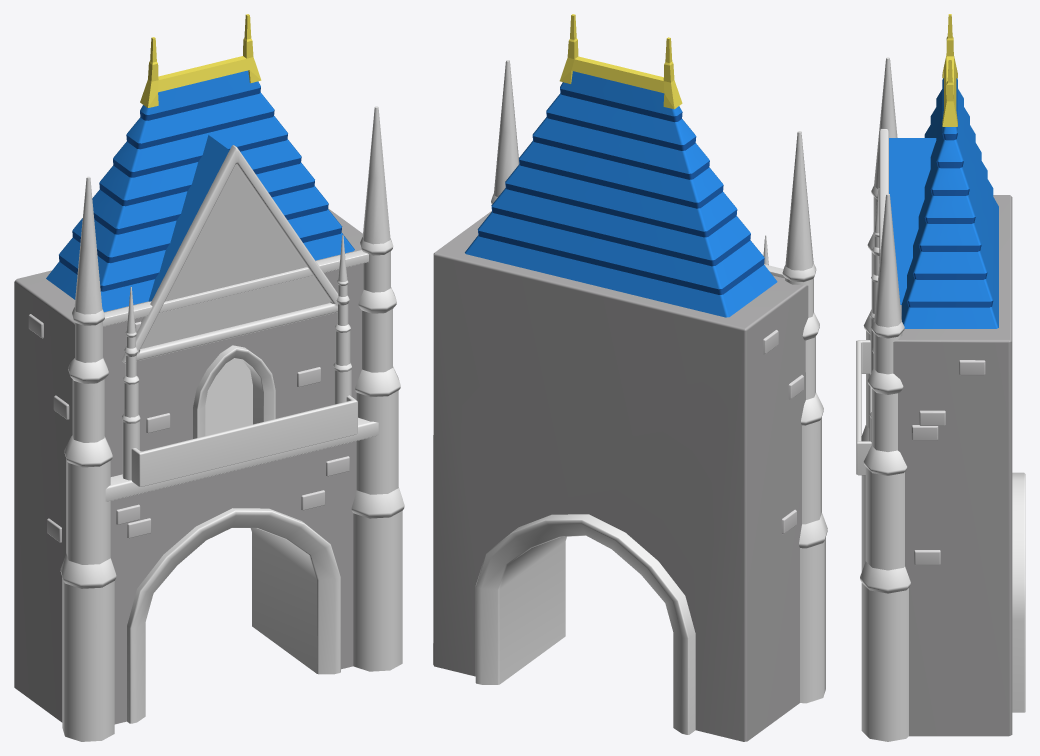
Rendered from castle_tower_011.gltf.
3 views of the same model, side by side, from view 1: azimuth 30°, elevation 25°; view 2: azimuth 150°, elevation 25°; view 3: azimuth 270°, elevation 25° (orthographic). The views are drawn at different scales.
Visible parts, largest first — view 1: castle_tower_011; view 2: castle_tower_011; view 3: castle_tower_011.
Part boxes in pixels (x1,y1,x2,y2): castle_tower_011: [14, 14, 404, 741]; castle_tower_011: [433, 14, 827, 741]; castle_tower_011: [856, 14, 1025, 741].
Size of the model in its own units: 7.11 by 12.97 by 3.18.
Materials: 2 (1 with a texture image).
